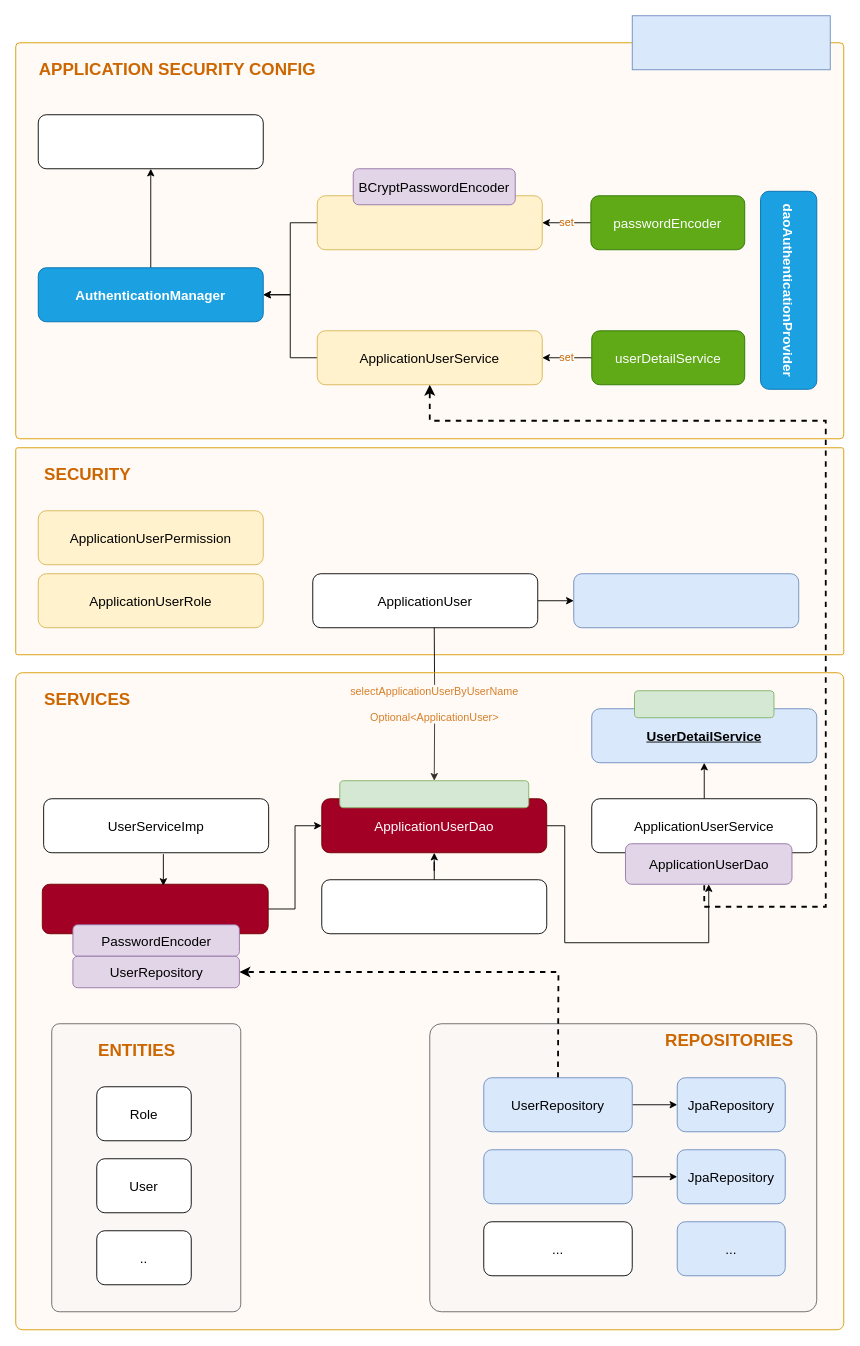
This 860x1346 diagram has some shape labels left out. The centre of each missing label's shape, as x and y in pixels:
configure(AuthenticationManager): point (150, 141)
FakeApplicationUserDaoService: point (434, 906)
loadUserByUsername: point (704, 704)
PasswordConfig: point (429, 222)
RoleRepository: point (557, 1176)
selectApplicationUserByUsername: point (434, 794)
UserDetails: point (686, 600)
UserService: point (154, 908)
WebSecurityConfigurerAdapter: point (730, 42)
